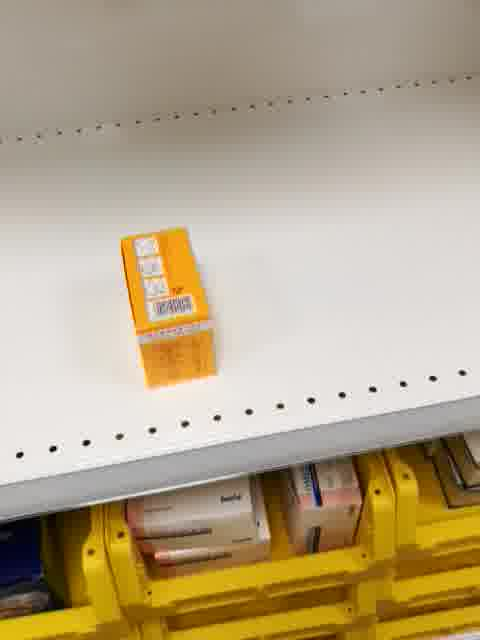jasminetea: (119, 224, 219, 390)
